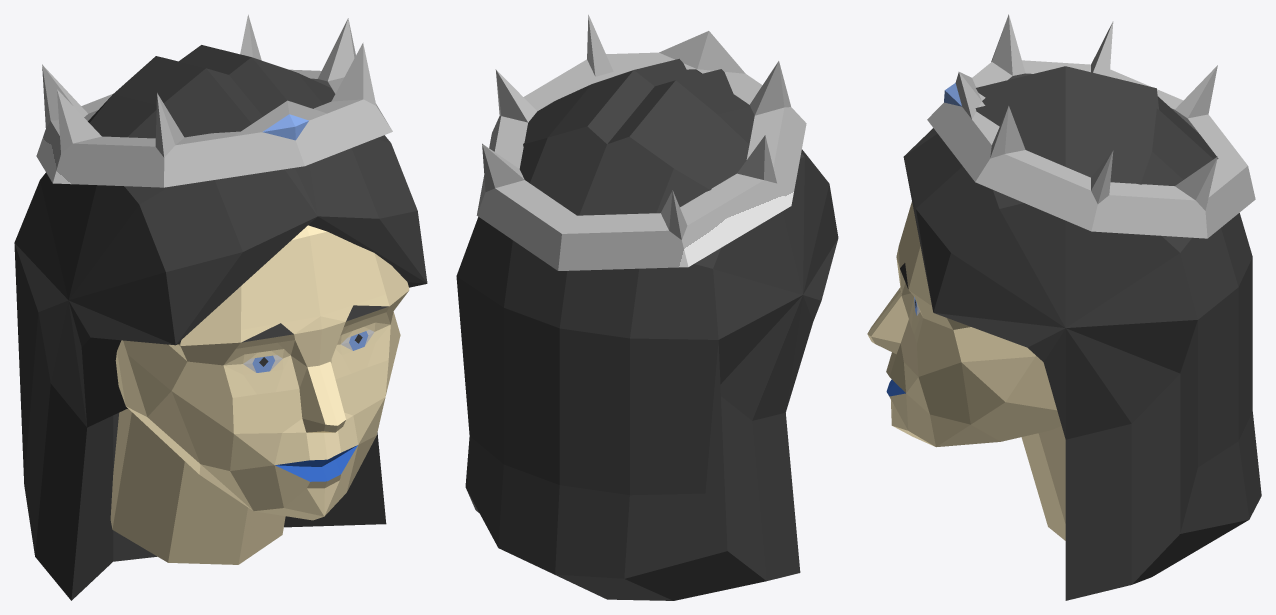
File: human_head_female.fbx
The picture shows the model from 3 angles, left to right: view 1: azimuth 30°, elevation 25°; view 2: azimuth 150°, elevation 25°; view 3: azimuth 270°, elevation 25°; orthographic projection. The views are drawn at different scales.
Visible parts, largest first — view 1: hair, head, crown, neck; view 2: hair, crown; view 3: hair, crown, head, neck.
Boxes of the visible parts, box(x1,y1,x2,y2) form: hair: box(14, 45, 427, 600); head: box(115, 225, 409, 520); crown: box(36, 14, 392, 187); neck: box(110, 408, 285, 564); hair: box(456, 58, 838, 600); crown: box(476, 14, 806, 270); hair: box(903, 66, 1261, 600); crown: box(927, 14, 1255, 238); head: box(867, 202, 1061, 447); neck: box(1021, 426, 1065, 540).
Bounding box in the file's own units: 20 × 32.32 × 23.19.
